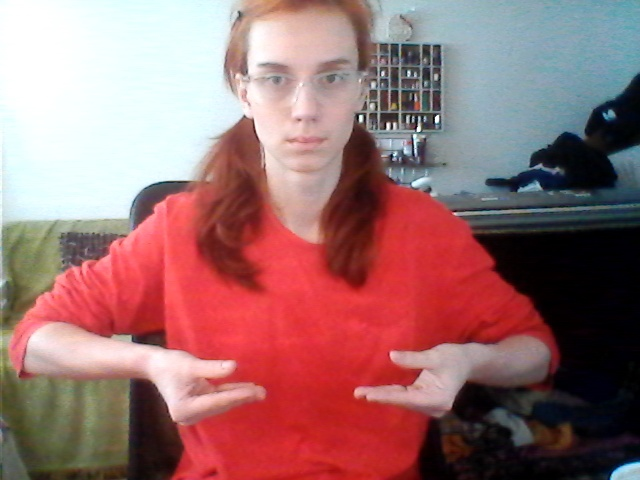drzat: (146, 327, 481, 425)
